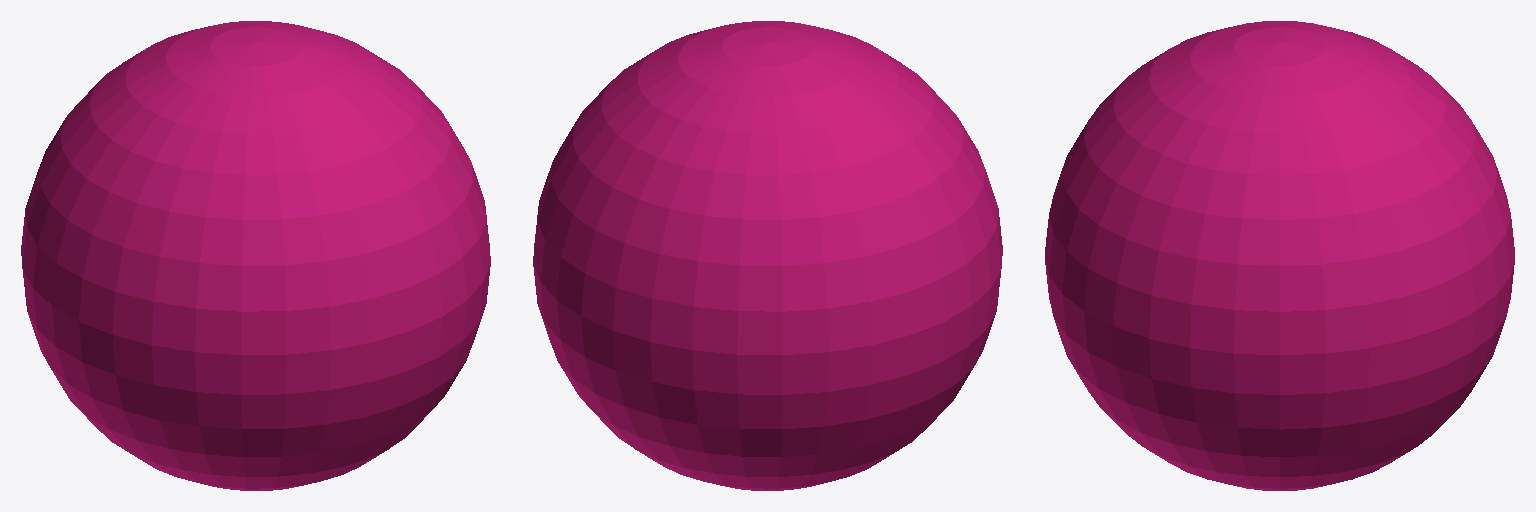
File: Bola.obj
The picture shows the model from 3 angles: view 1: azimuth 30°, elevation 25°; view 2: azimuth 150°, elevation 25°; view 3: azimuth 270°, elevation 25°; orthographic projection.
Parts seen in each view (by area): view 1: Sphere; view 2: Sphere; view 3: Sphere.
Part boxes in pixels (left/top/right/bottom): Sphere: left=21, top=21, right=490, bottom=490; Sphere: left=533, top=21, right=1002, bottom=490; Sphere: left=1045, top=21, right=1514, bottom=490.
Bounding box in the file's own units: 2 × 2 × 2.